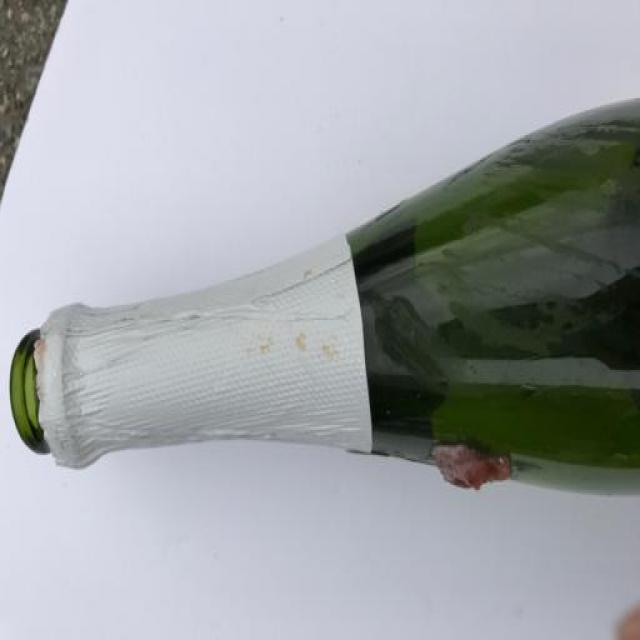glass: (1, 88, 640, 510)
